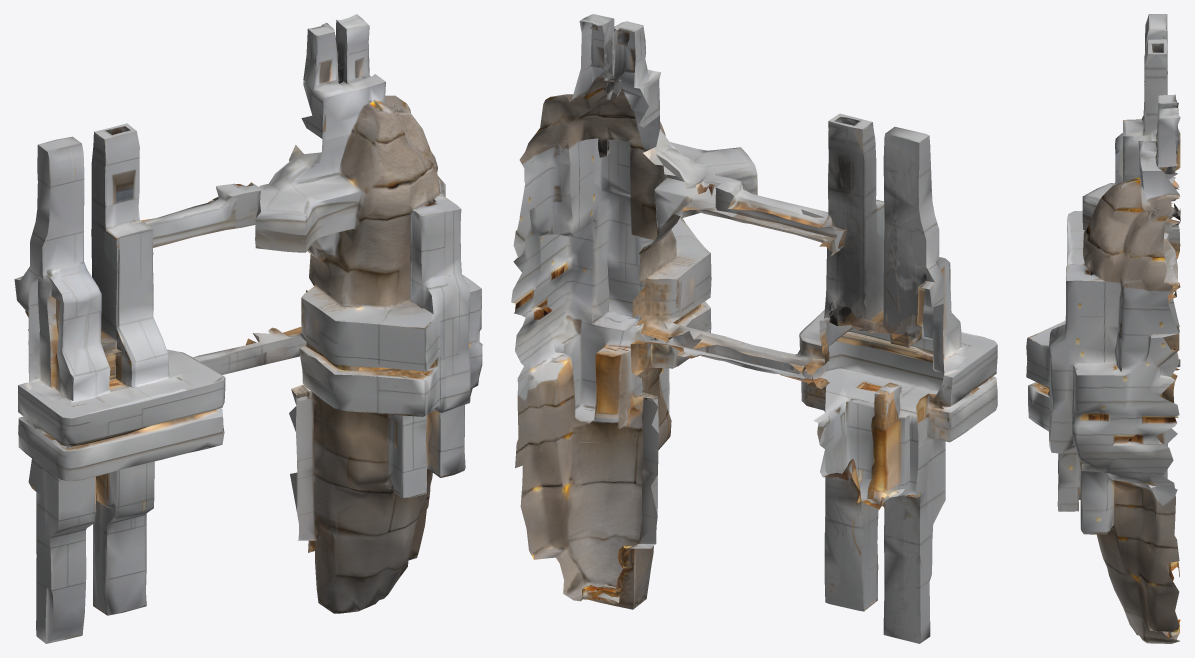
The model's file is bldg_mine_tower_front.glb.
The picture shows the model from 3 angles, left to right: view 1: azimuth 30°, elevation 25°; view 2: azimuth 150°, elevation 25°; view 3: azimuth 270°, elevation 25°; orthographic projection. The views are drawn at different scales.
Parts seen in each view (by area): view 1: polymsh_detached.001; view 2: polymsh_detached.001; view 3: polymsh_detached.001.
Boxes of the visible parts, <box> form: polymsh_detached.001: <box>14,14,482,643</box>; polymsh_detached.001: <box>511,14,997,643</box>; polymsh_detached.001: <box>1026,14,1180,643</box>.
Bounding box in the file's own units: 1.55 × 2.01 × 0.5376.
1 material, 1 textured.
